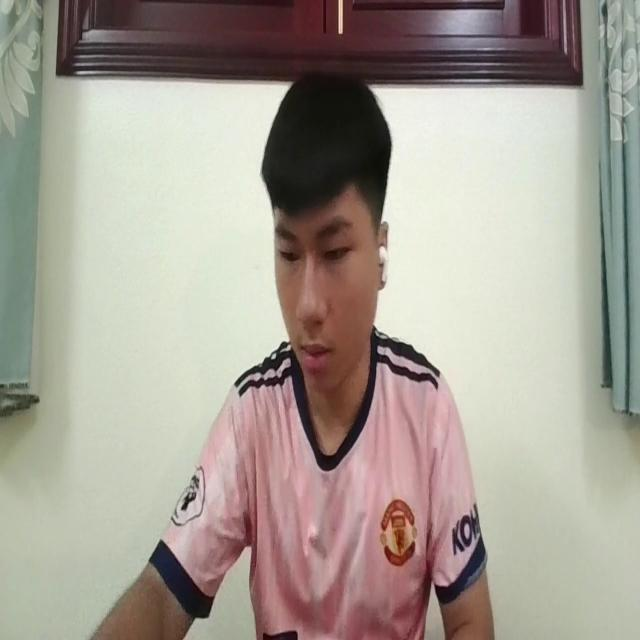student: (92, 72, 492, 640)
